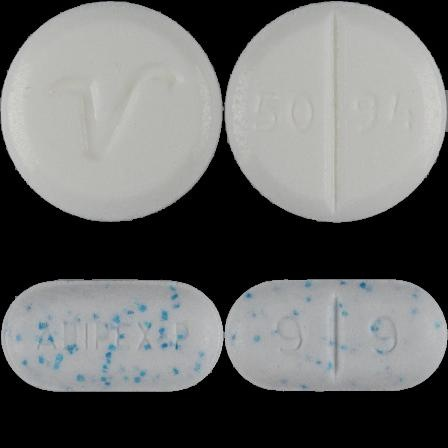55289-373: (0, 0, 224, 224)
